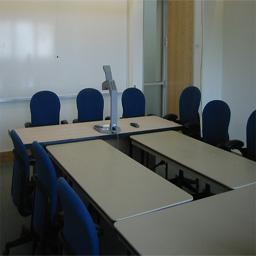Puerta: (167, 6, 193, 115)
